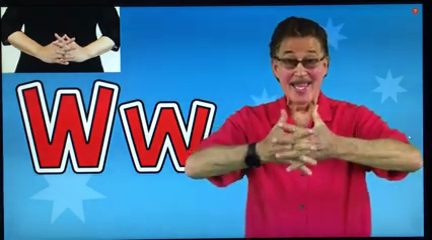W: (244, 96, 347, 188)
